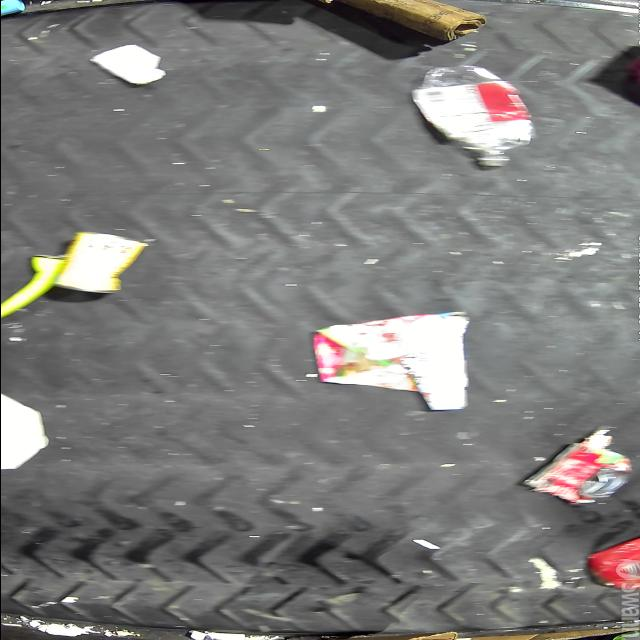can: (521, 442, 633, 504), (53, 231, 148, 295)
milk_jug: (0, 388, 48, 474)
plastic_bottle: (414, 66, 534, 170)
